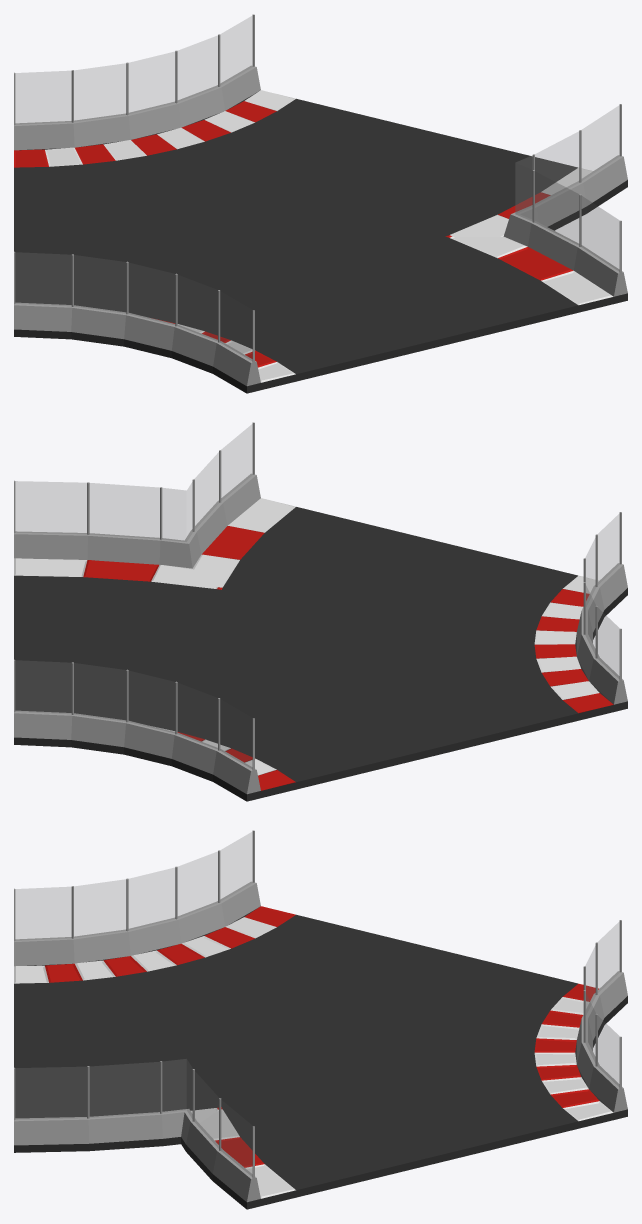
Rendered from track_split_borders_low.glb.
3 renders of one model, top to bottom at view 1: azimuth 30°, elevation 25°; view 2: azimuth 150°, elevation 25°; view 3: azimuth 270°, elevation 25°, orthographic.
Visible parts, largest first — view 1: Split.002; view 2: Split.002; view 3: Split.002.
Part boxes in pixels (<box>): Split.002: <box>14,14,627,393</box>; Split.002: <box>14,422,627,801</box>; Split.002: <box>14,830,627,1209</box>.
Bounding box in the file's own units: 17.4 × 2.2 × 15.07.
